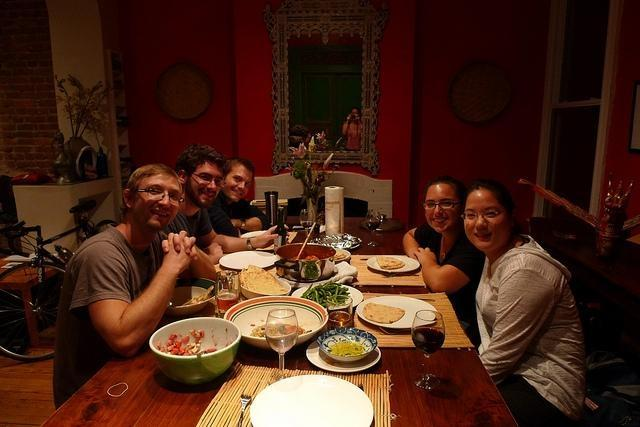bicycle: (1, 201, 117, 364)
